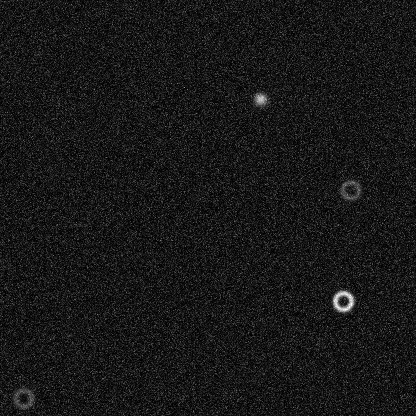Ring: (338, 178, 362, 202), (11, 386, 35, 410), (331, 289, 355, 313)
Spot: (252, 91, 268, 107)
